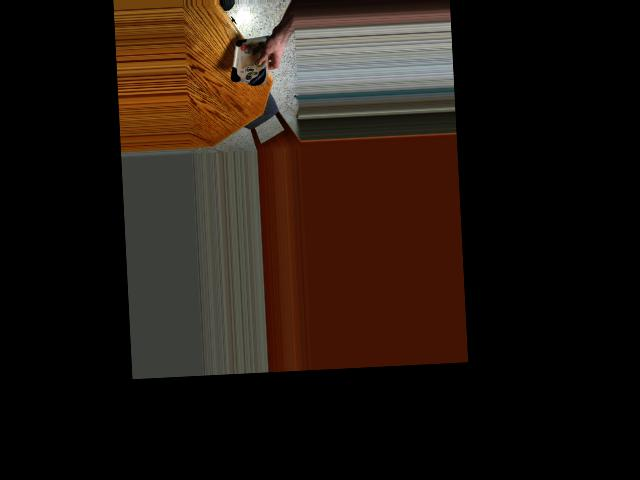cheese: (232, 29, 270, 89)
